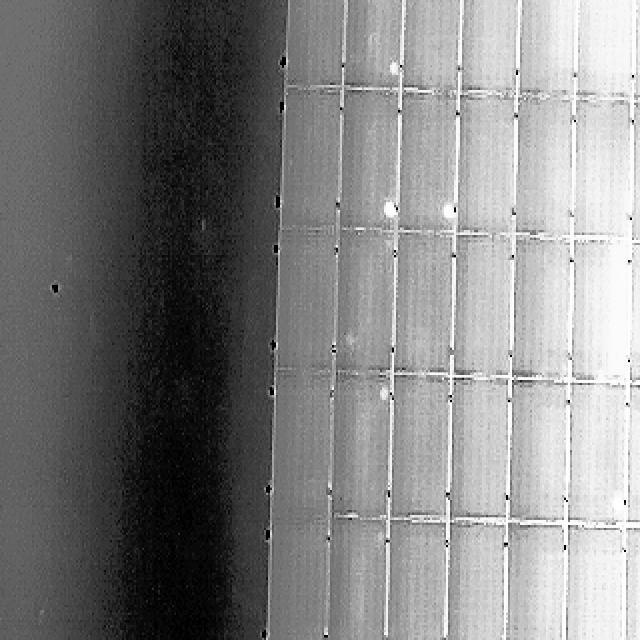Hotspots: (434, 200, 455, 230), (610, 491, 629, 518), (377, 199, 398, 222), (383, 59, 400, 85)
PV-modules: (444, 376, 507, 520), (274, 230, 337, 374), (390, 374, 451, 519), (343, 89, 405, 231), (513, 238, 574, 382), (568, 240, 629, 384), (510, 379, 570, 524), (336, 373, 396, 518), (515, 96, 576, 238), (397, 91, 458, 233), (448, 235, 508, 379), (566, 382, 626, 526), (340, 232, 400, 376), (271, 371, 329, 518), (280, 90, 340, 232), (571, 99, 631, 240), (452, 93, 511, 236), (395, 234, 454, 376), (266, 517, 326, 640), (506, 522, 568, 640), (562, 522, 624, 640), (442, 520, 502, 640), (386, 520, 446, 640), (332, 517, 390, 640), (573, 2, 633, 102), (518, 0, 578, 96), (459, 0, 519, 94), (285, 0, 347, 88), (342, 0, 403, 89), (400, 0, 460, 90), (628, 383, 640, 525), (626, 525, 640, 640), (632, 240, 640, 382), (634, 100, 640, 242), (636, 0, 640, 100)
